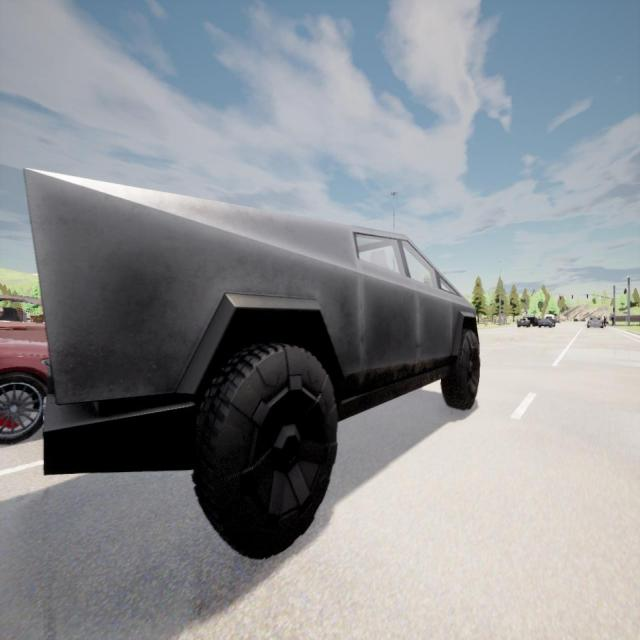Pedestrian: (602, 314, 607, 328), (611, 314, 615, 328)
Vehicle: (28, 169, 478, 559), (0, 292, 42, 439), (587, 317, 604, 328), (538, 318, 554, 328), (516, 317, 531, 327), (543, 314, 555, 318), (554, 319, 560, 322), (573, 319, 578, 321), (582, 319, 585, 322)
traffic_light: (572, 294, 574, 299), (587, 294, 588, 299), (560, 295, 561, 299)
